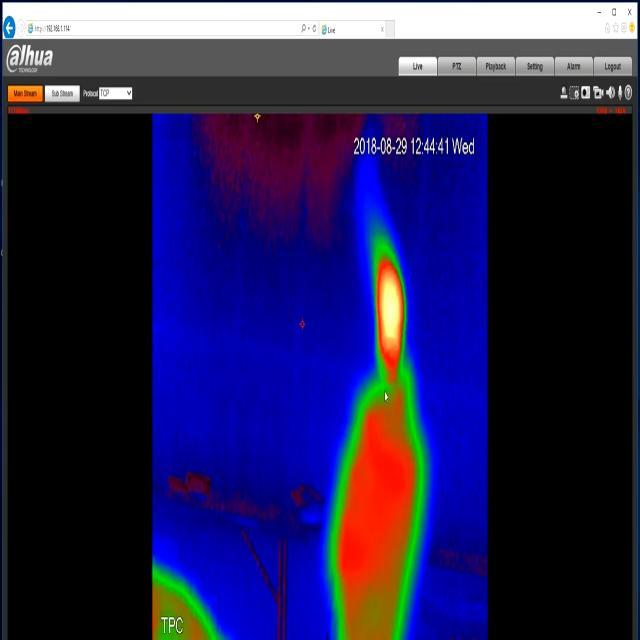fire: (375, 244, 408, 381)
